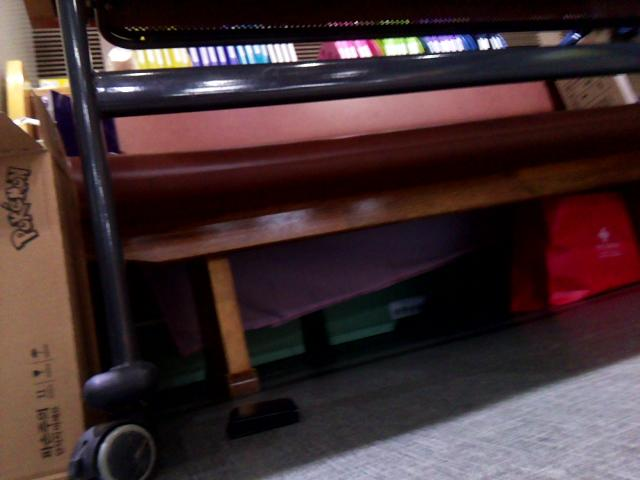wallet: (221, 395, 305, 443)
